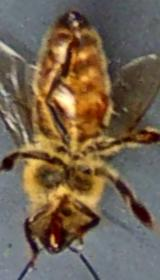varroa_mite: (82, 85, 114, 128)
